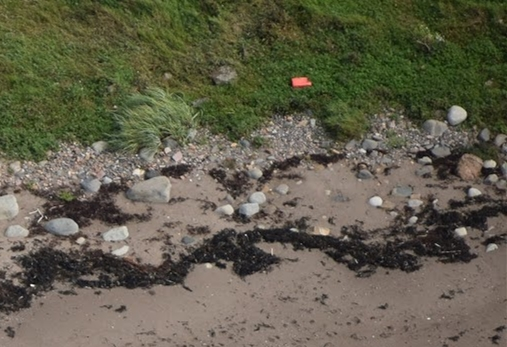cuboid: (282, 65, 319, 98)
